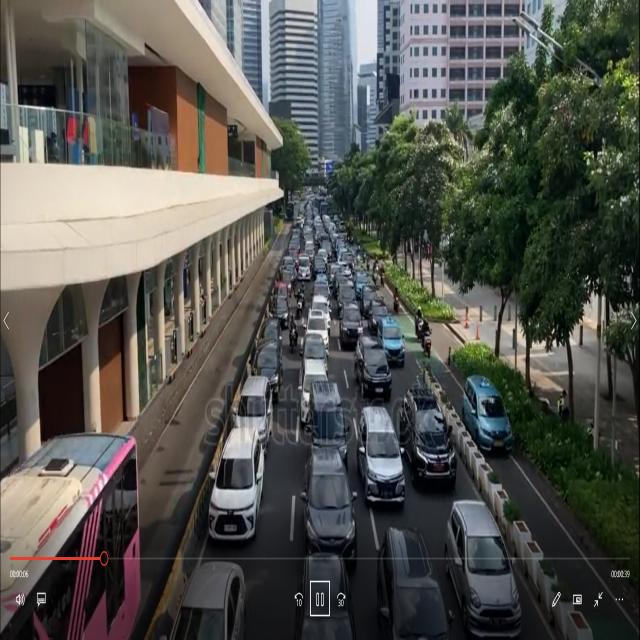Ambulance: (298, 252, 313, 286)
